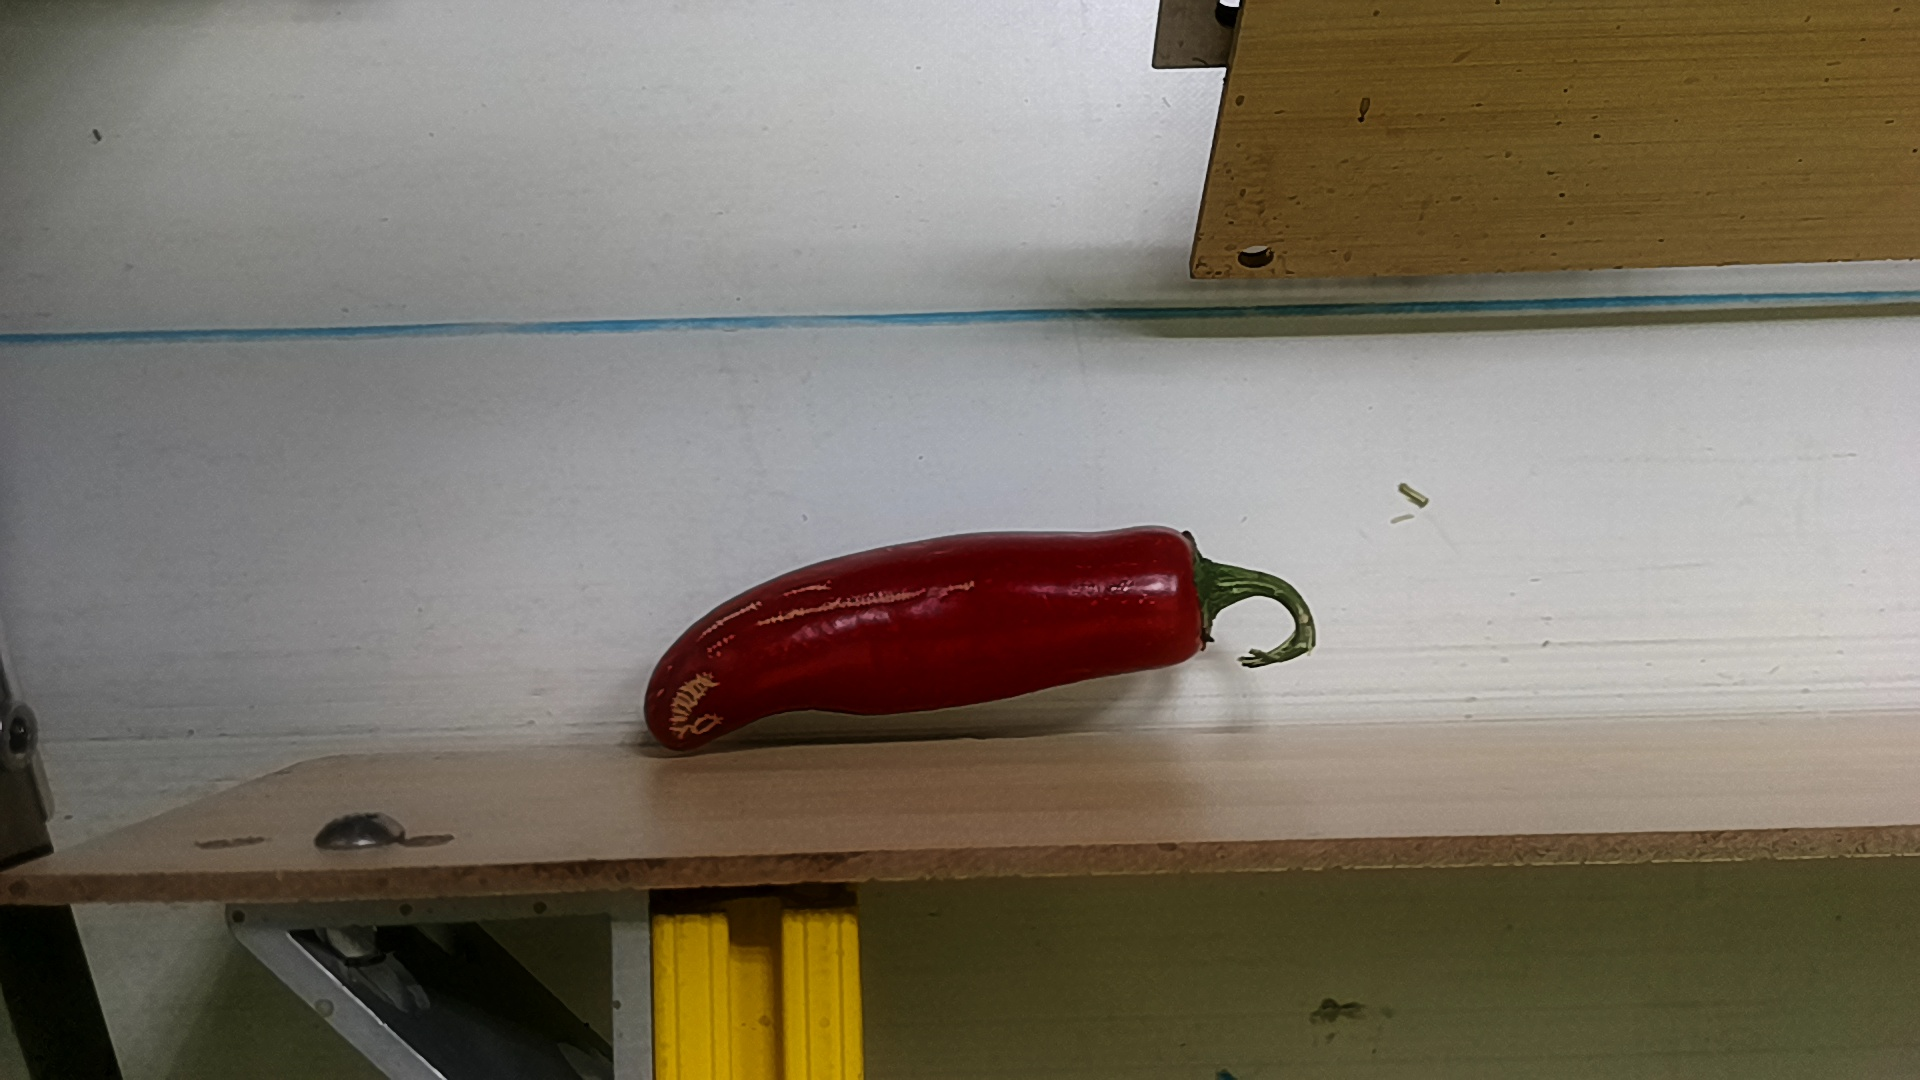Cut Point: (1141, 516, 1237, 667)
